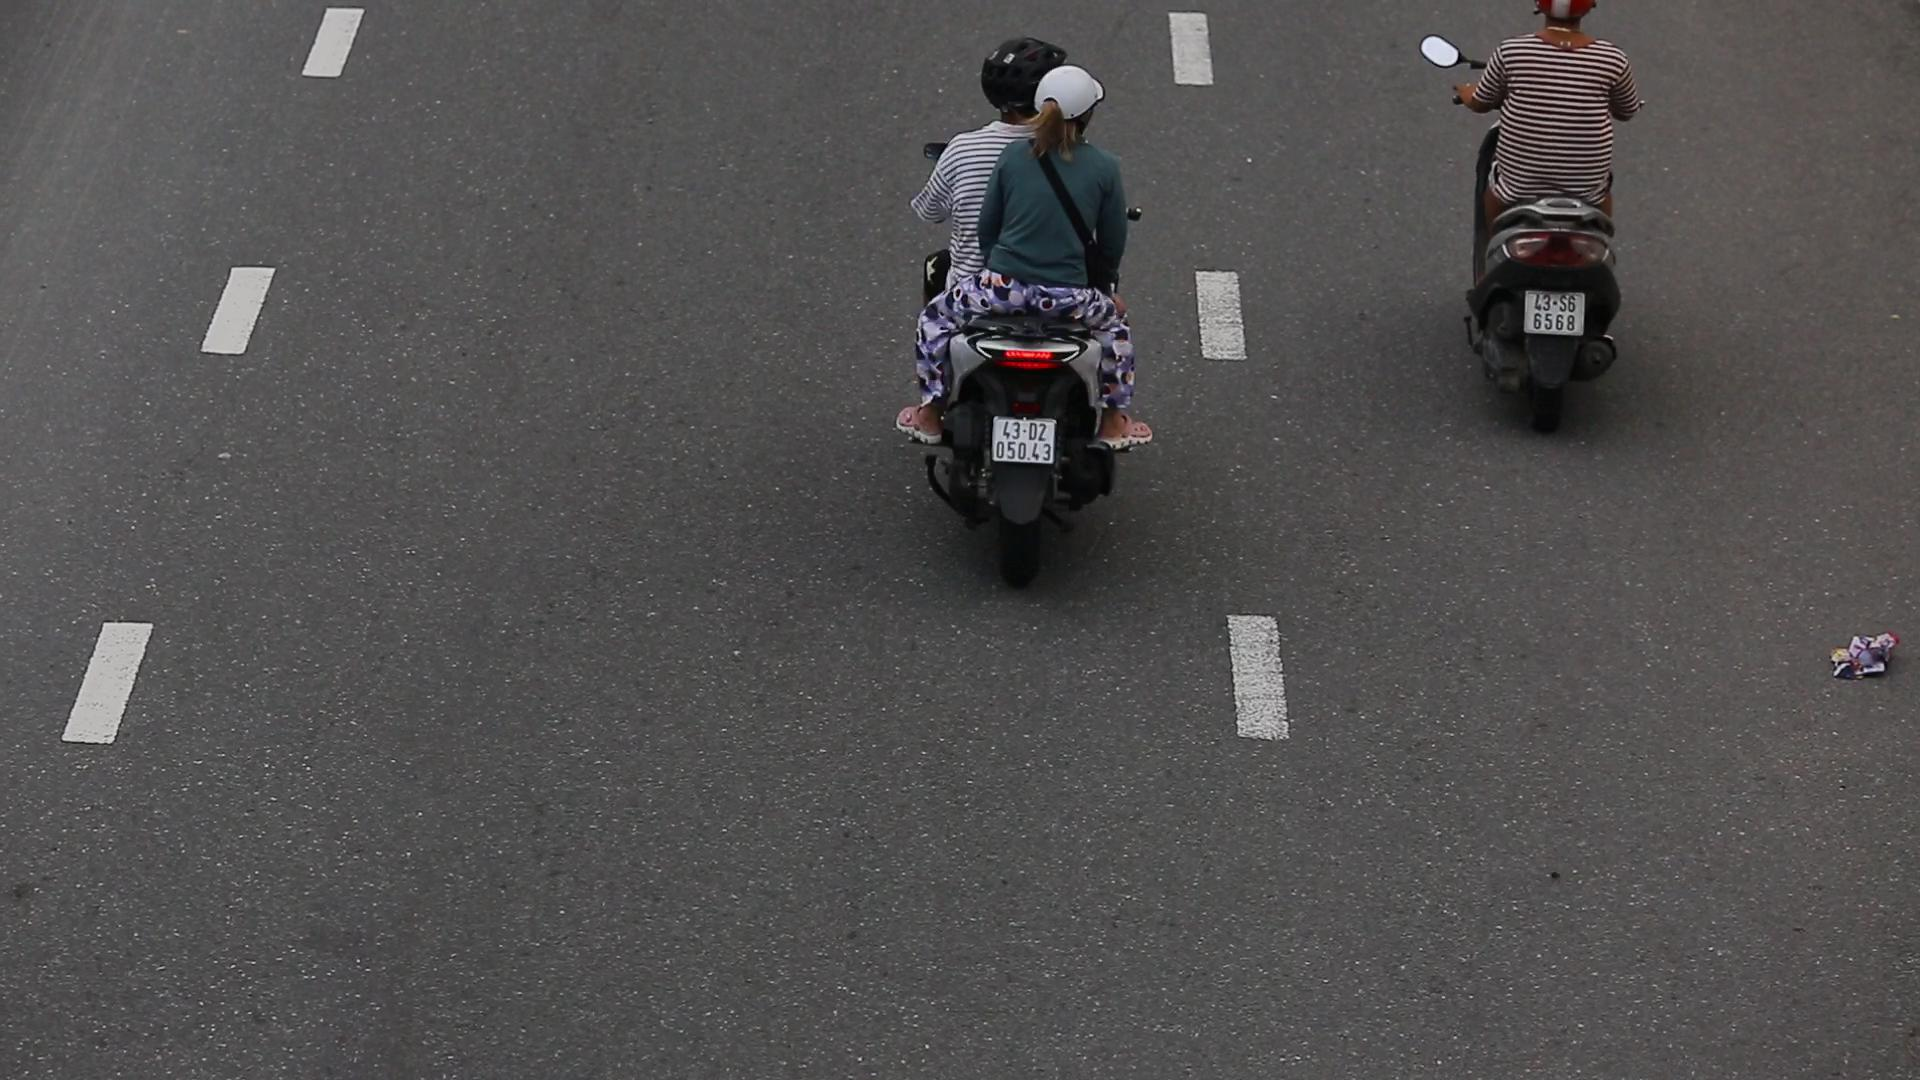motobike: (882, 44, 1150, 591)
